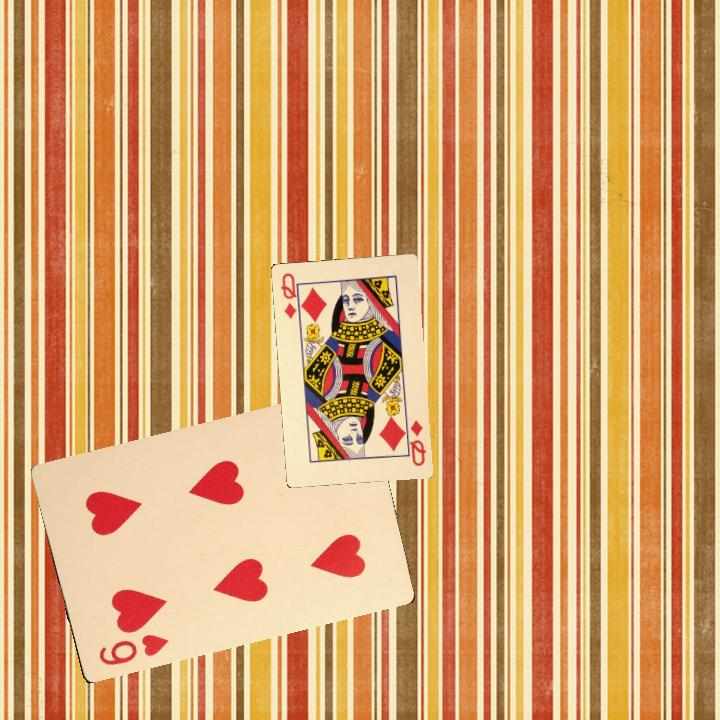6h: (95, 630, 169, 668)
Qd: (400, 416, 429, 468), (276, 269, 303, 323)
